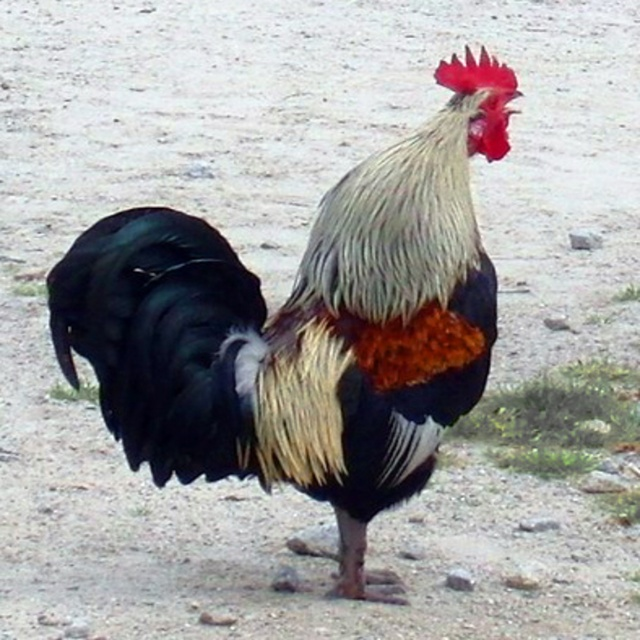Chicken: (46, 43, 526, 605)
